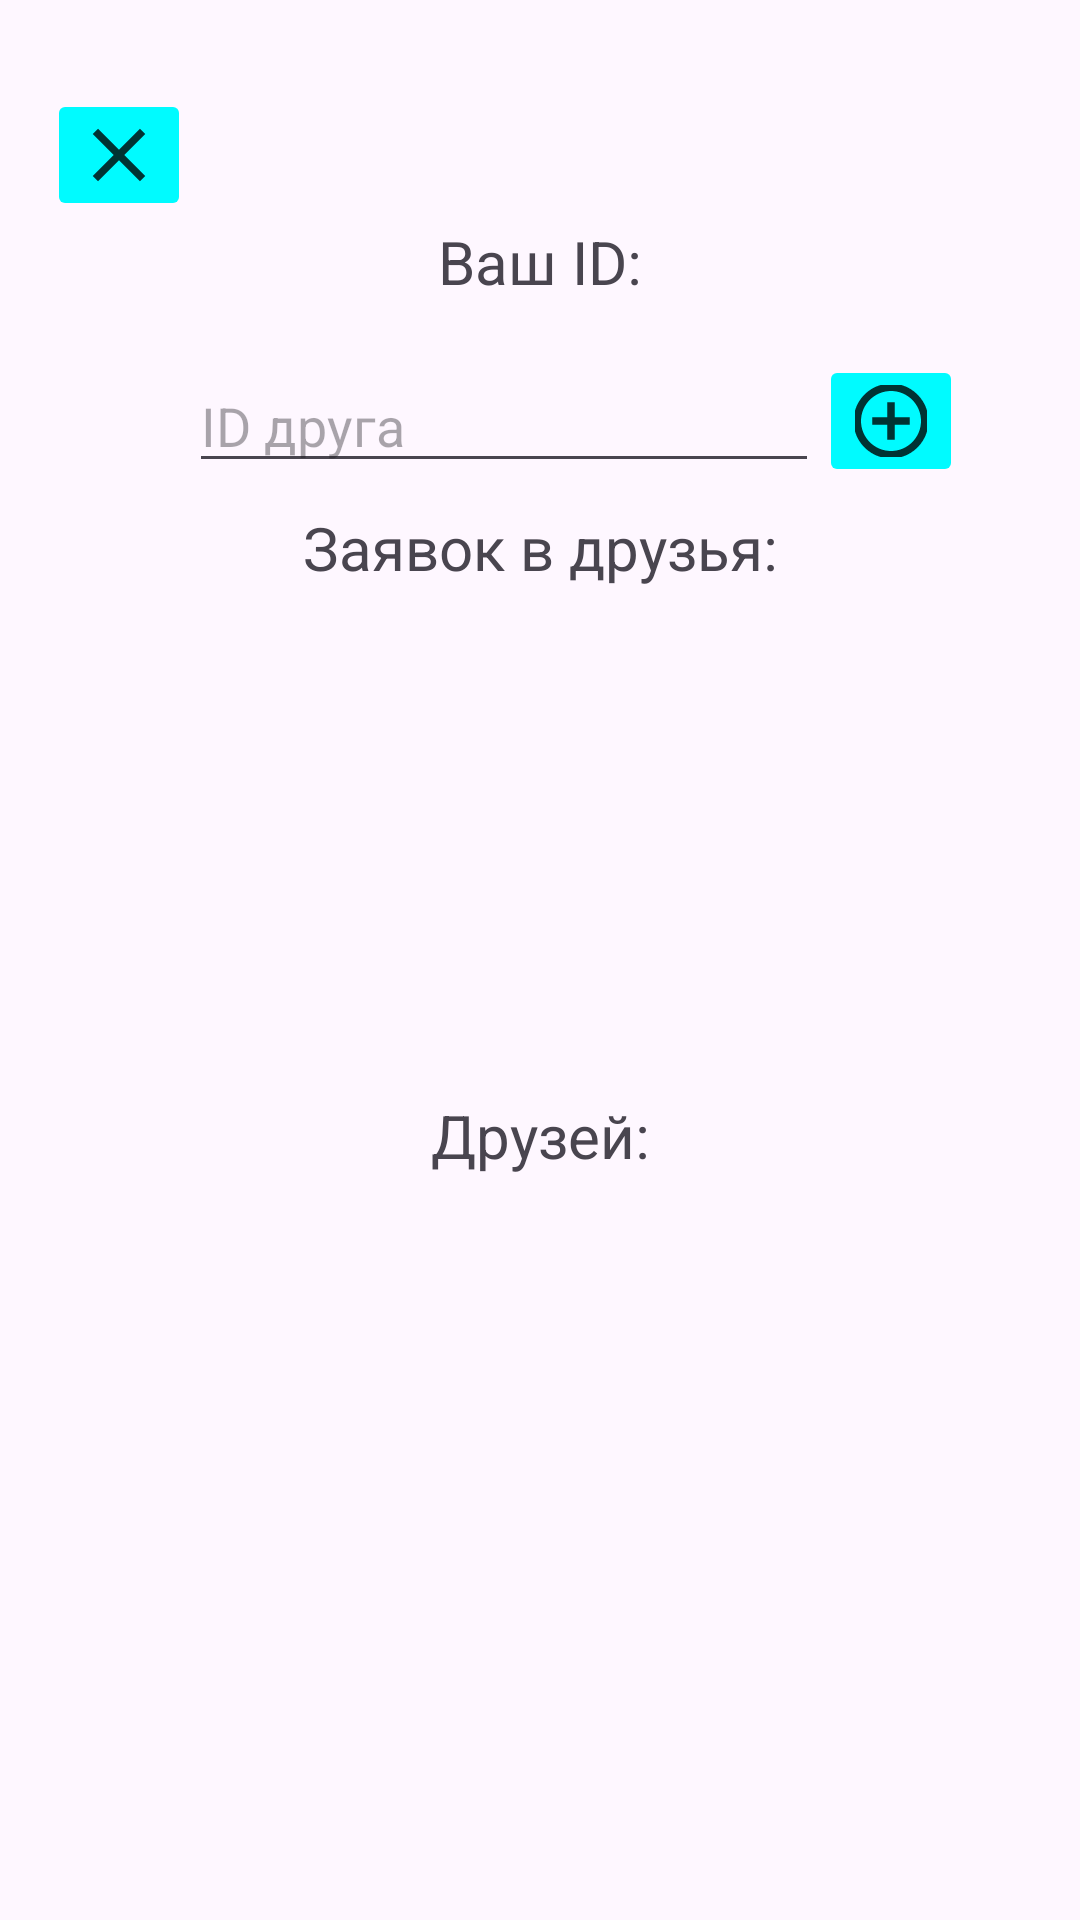

Point at icon controls on the screen. Image size 1080px x 1920px, points as (x,y).
close: (119,155)
